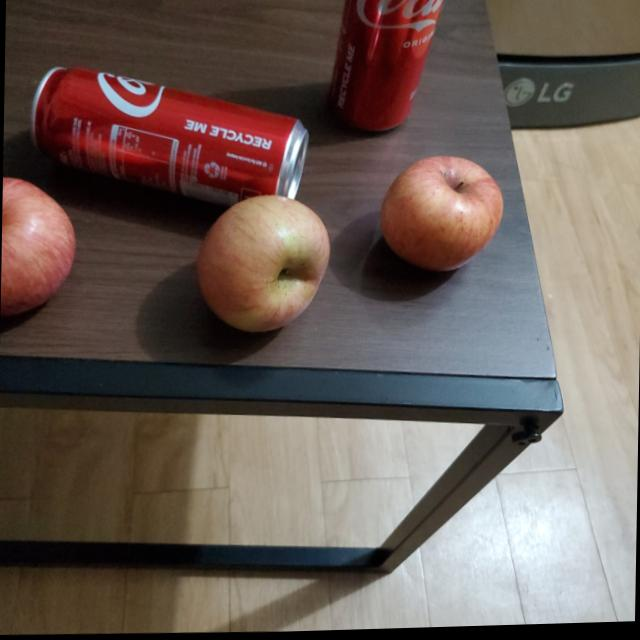apple: (199, 199, 331, 339), (380, 156, 506, 277), (0, 178, 74, 318)
coke: (29, 61, 308, 212), (330, 0, 461, 138)
